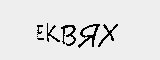В: (59, 23, 76, 51)
Е: (35, 21, 44, 44)
К: (44, 22, 61, 46)
Х: (96, 20, 119, 49)
Я: (75, 22, 100, 54)
